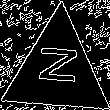N_W: (33, 49, 81, 92)
